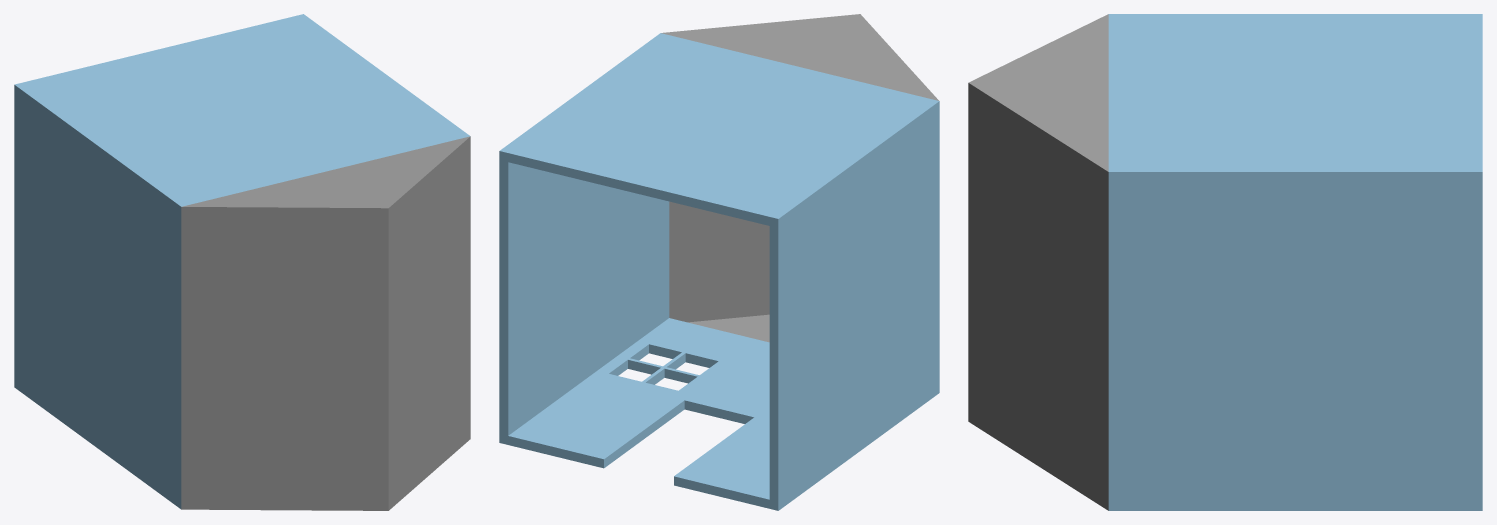
File: House.obj
3 views of the same model, side by side, from view 1: azimuth 30°, elevation 25°; view 2: azimuth 150°, elevation 25°; view 3: azimuth 270°, elevation 25° (orthographic). The views are drawn at different scales.
Parts seen in each view (by area): view 1: mesh2, mesh6, mesh5, mesh1, mesh3; view 2: mesh6, mesh5, mesh8, mesh16, mesh1, mesh11, mesh3, mesh0, mesh12, mesh13; view 3: mesh4, mesh5, mesh1, mesh3.
Part boxes in pixels (x1,y1,x2,y2): mesh2: (181,207,388,510); mesh6: (14,85,181,509); mesh5: (14,14,470,206); mesh1: (388,136,470,510); mesh3: (182,136,469,208); mesh6: (778,101,939,510); mesh5: (500,33,938,218); mesh8: (508,162,669,435); mesh16: (508,318,769,499); mesh1: (669,201,769,322); mesh11: (499,151,778,510); mesh3: (661,14,938,100); mesh0: (688,314,769,342); mesh12: (604,400,684,467); mesh13: (684,400,753,423); mesh4: (1108,172,1482,510); mesh5: (1108,14,1482,171); mesh1: (968,83,1108,510); mesh3: (969,14,1108,171).
Size of the model in its own units: 0.1016 by 0.1047 by 0.1397.
